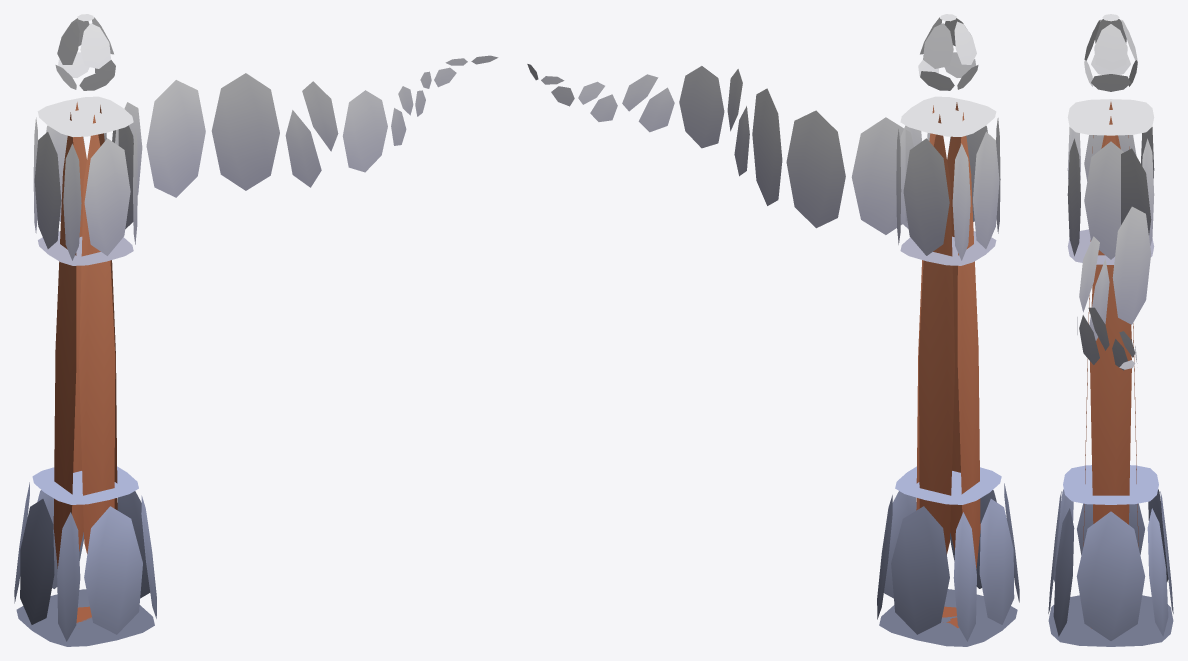
File: flag-pennant.glb
3 renders of one model, left to right at view 1: azimuth 30°, elevation 25°; view 2: azimuth 150°, elevation 25°; view 3: azimuth 270°, elevation 25°, orthographic.
Visible parts, largest first — view 1: flag-pennant; view 2: flag-pennant; view 3: flag-pennant.
Part boxes in pixels (bbox=[...]): flag-pennant: bbox=[14, 14, 498, 646]; flag-pennant: bbox=[527, 14, 1019, 646]; flag-pennant: bbox=[1048, 14, 1173, 646].
Bounding box in the file's own units: 1.72 × 2.1 × 0.3951.
Materials: 1 (1 with a texture image).
